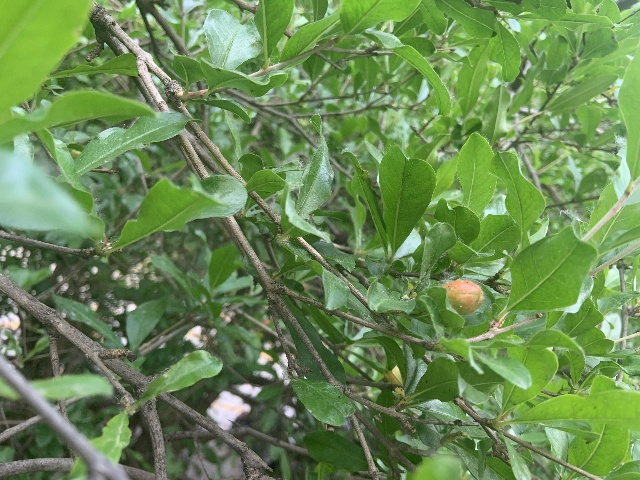bud: (442, 279, 484, 314)
